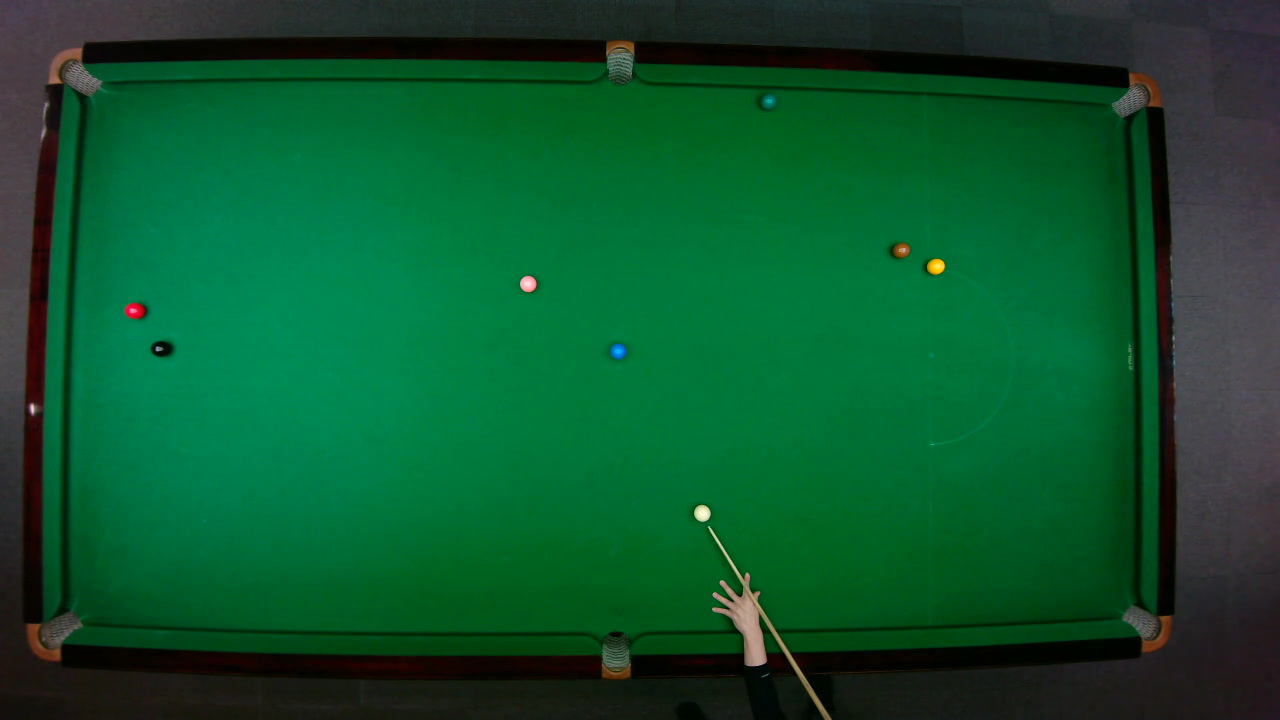bag: (25, 609, 83, 661), (45, 47, 102, 96), (1119, 603, 1171, 652), (1108, 71, 1161, 118), (600, 629, 630, 680), (605, 38, 633, 85)
black: (149, 339, 171, 357)
blue: (608, 342, 626, 359)
brown: (890, 241, 911, 258)
cue: (704, 524, 832, 719)
green: (759, 92, 776, 110)
pink: (517, 273, 537, 293)
red: (123, 301, 146, 319)
white: (692, 503, 711, 522)
yellow: (925, 257, 946, 274)
zone: (926, 266, 1013, 445)
